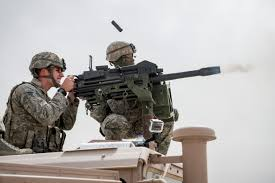gun: (65, 50, 223, 102)
